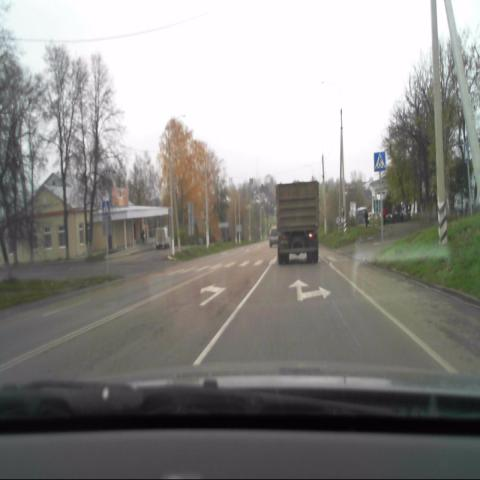5_19_1: (374, 152, 385, 169), (102, 202, 110, 216)
